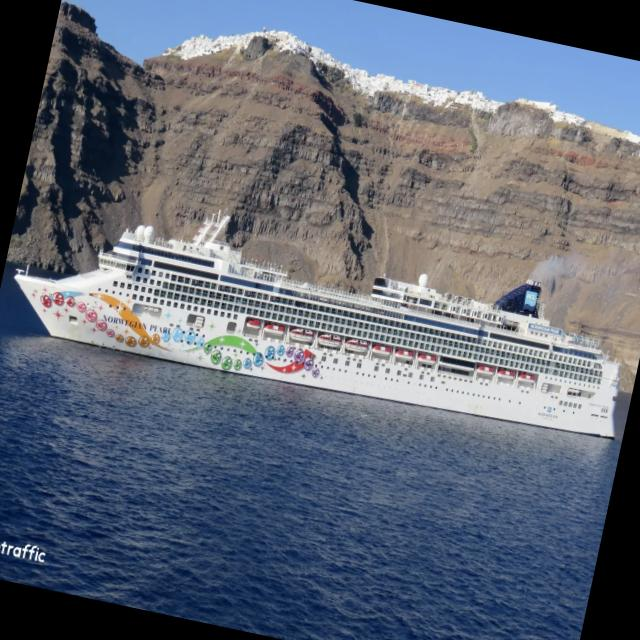Cruise: (14, 211, 619, 437)
